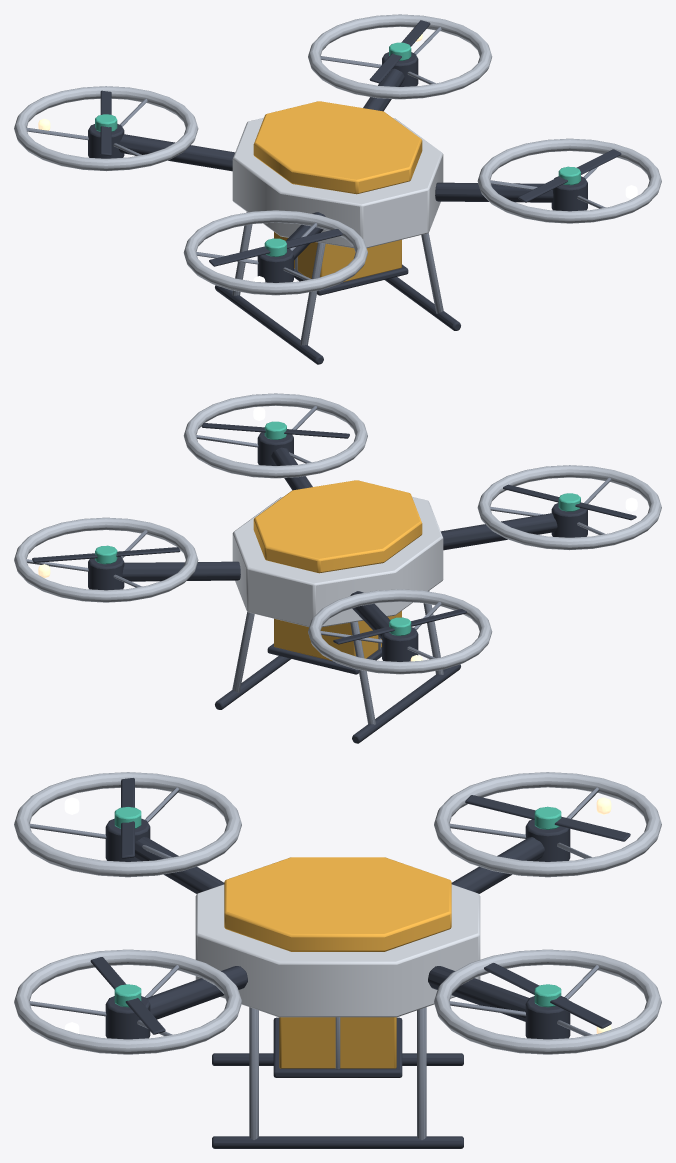
Rendered from drohne.fbx.
The picture shows the model from 3 angles, top to bottom: view 1: azimuth 30°, elevation 25°; view 2: azimuth 150°, elevation 25°; view 3: azimuth 270°, elevation 25°; orthographic projection. The views are drawn at different scales.
Visible parts, largest first — view 1: drohne_Koerper, drohne, drohne_Ladung; view 2: drohne_Koerper, drohne, drohne_Ladung; view 3: drohne_Koerper, drohne_Ladung, drohne.
Boxes of the visible parts, x1,y1,x2,y2 form: drohne_Koerper: (14,14,661,364); drohne: (95,20,621,266); drohne_Ladung: (274,232,408,295); drohne_Koerper: (14,393,661,743); drohne: (32,421,636,644); drohne_Ladung: (267,611,401,674); drohne_Koerper: (14,772,661,1148); drohne_Ladung: (273,1017,402,1077); drohne: (90,778,630,1034).
Bounding box in the file's own units: 2.32 × 0.8317 × 2.32.
